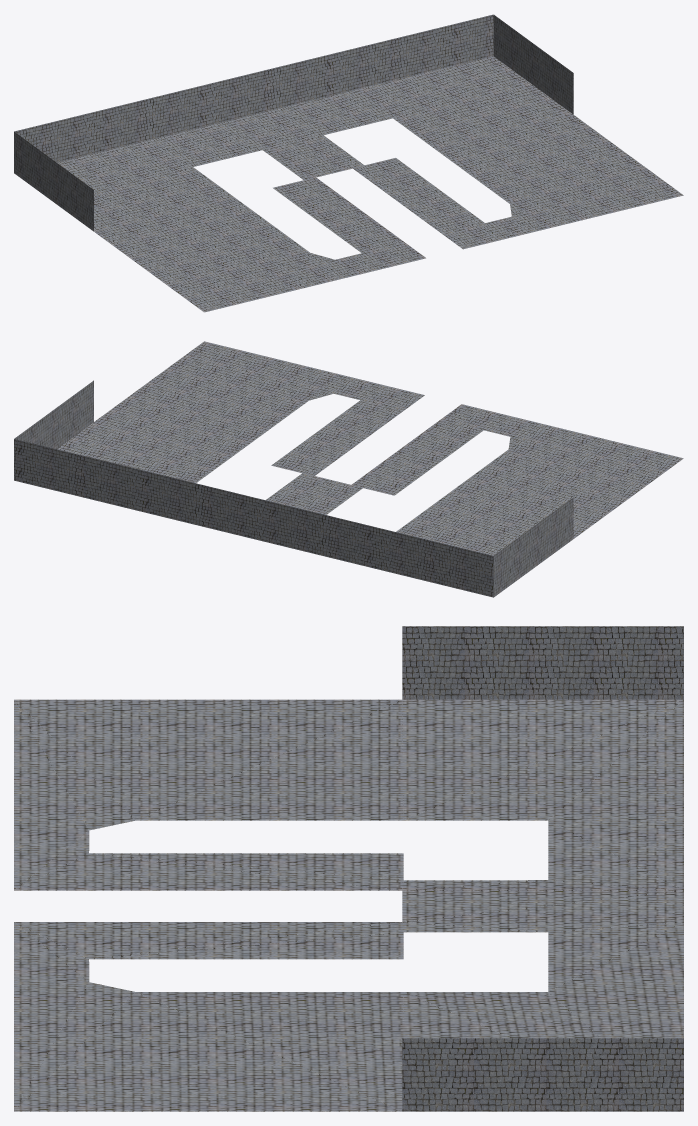
The model's file is SteamGravel.fbx.
3 views of the same model, one above another, from view 1: azimuth 30°, elevation 25°; view 2: azimuth 150°, elevation 25°; view 3: azimuth 270°, elevation 25° (orthographic). The views are drawn at different scales.
Parts seen in each view (by area): view 1: SteamGravel; view 2: SteamGravel; view 3: SteamGravel.
Boxes of the visible parts, bbox=[...] form: SteamGravel: bbox=[14, 14, 683, 312]; SteamGravel: bbox=[14, 341, 683, 597]; SteamGravel: bbox=[14, 626, 683, 1111].
Bounding box in the file's own units: 501 × 41.66 × 345.
